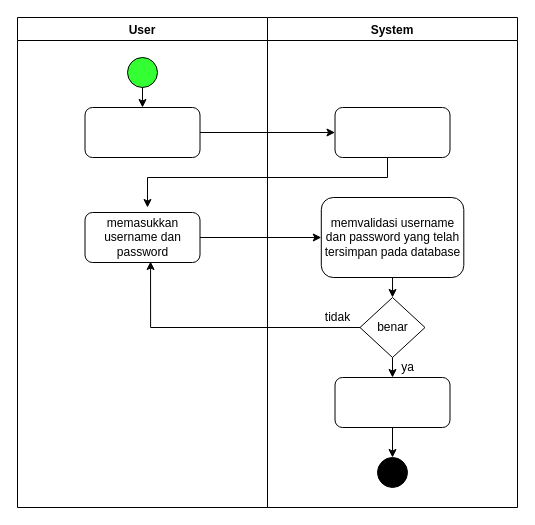
Some shapes in this 535 by 525 pixel diagram are drawn without their labels. The shapes that lost their labels are listed below. From the top down, each one's centre as x and y in pixels, then its label:
At point 142,132: "membuka system".
At point 392,132: "menampilkan form login".
At point 392,402: "menampilkan halaman utama".
